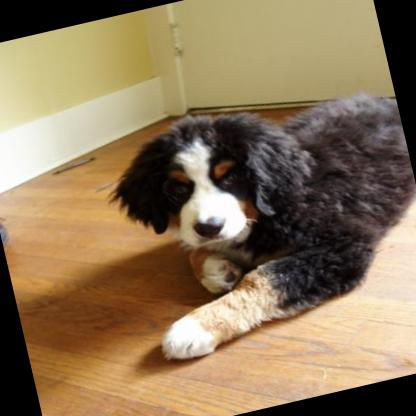Bernese_mountain_dog: (92, 70, 416, 369)
